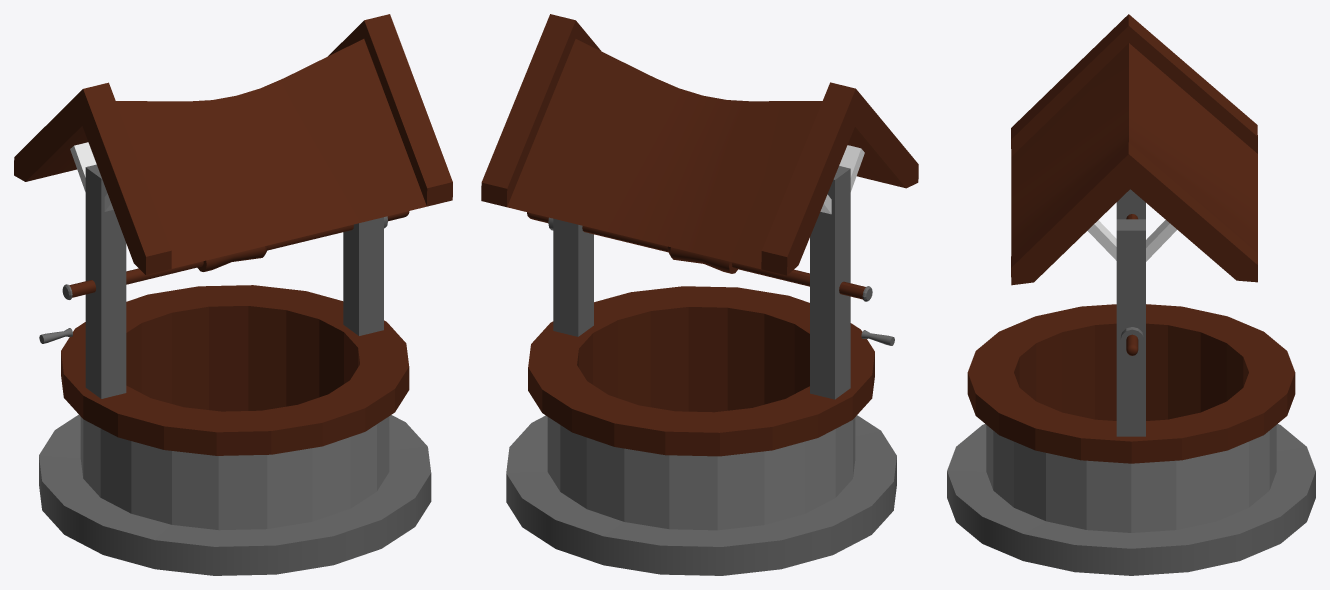
The model's file is Studnia.fbx.
The picture shows the model from 3 angles, left to right: view 1: azimuth 30°, elevation 25°; view 2: azimuth 150°, elevation 25°; view 3: azimuth 270°, elevation 25°; orthographic projection. The views are drawn at different scales.
Parts seen in each view (by area): view 1: Cylinder006, Line001, Box434, Box438, Line002, Box437; view 2: Cylinder006, Line001, Box434, Box438, Line002, Box436; view 3: Cylinder006, Line001, Box438, Box434, Box440, Line002, Box439.
Boxes of the visible parts, bbox=[...] form: Cylinder006: bbox=[39, 285, 431, 575]; Line001: bbox=[14, 14, 452, 274]; Box434: bbox=[85, 164, 126, 398]; Box438: bbox=[343, 217, 383, 335]; Line002: bbox=[62, 211, 409, 299]; Box437: bbox=[70, 142, 96, 191]; Cylinder006: bbox=[506, 286, 896, 575]; Line001: bbox=[481, 14, 918, 275]; Box434: bbox=[810, 166, 850, 399]; Box438: bbox=[553, 218, 593, 336]; Line002: bbox=[527, 212, 872, 301]; Box436: bbox=[839, 145, 864, 191]; Cylinder006: bbox=[947, 304, 1315, 575]; Line001: bbox=[1011, 14, 1257, 285]; Box438: bbox=[1116, 219, 1145, 436]; Box434: bbox=[1116, 189, 1145, 219]; Box440: bbox=[1146, 220, 1176, 261]; Line002: bbox=[1120, 214, 1143, 355]; Box439: bbox=[1087, 220, 1116, 260].
Bounding box in the file's own units: 25.48 × 29.45 × 23.78.
